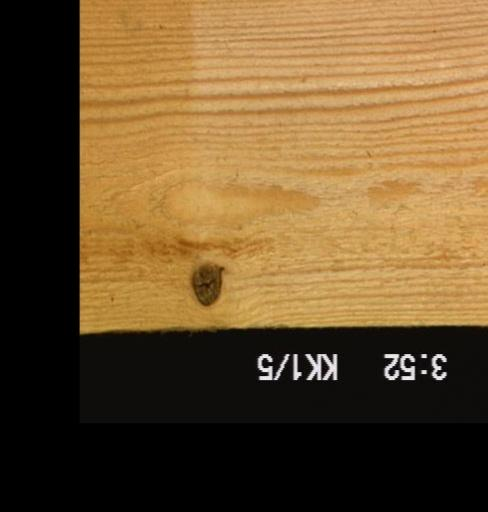dry_knot: (190, 261, 225, 306)
